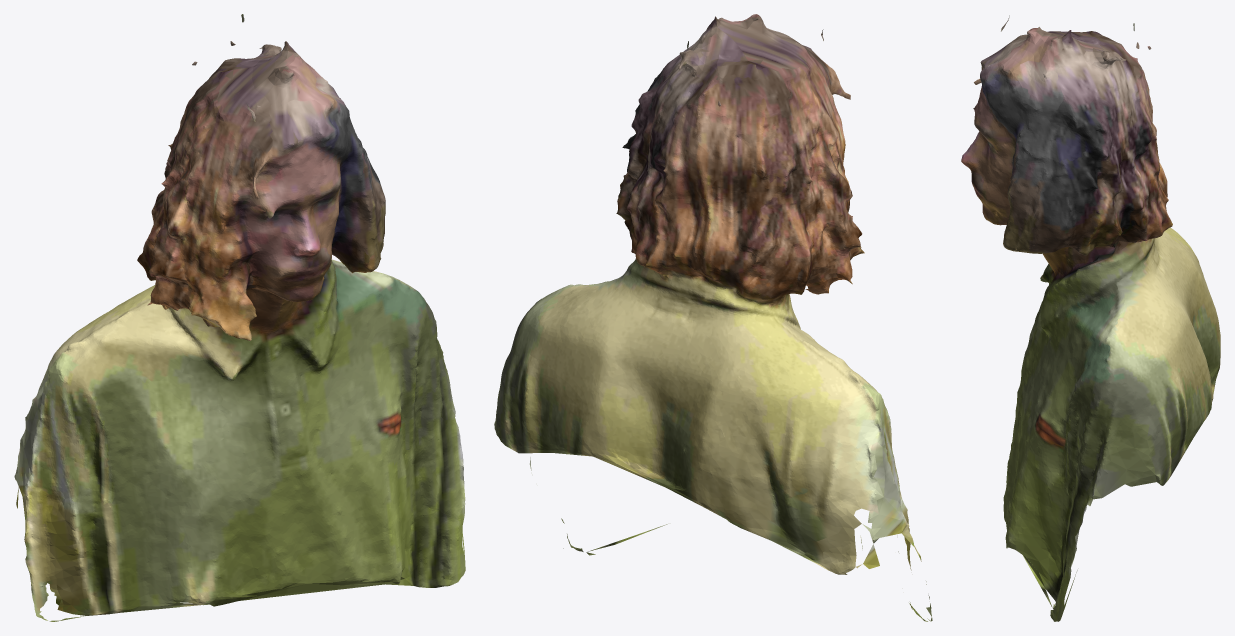
The picture shows the model from 3 angles, left to right: view 1: azimuth 30°, elevation 25°; view 2: azimuth 150°, elevation 25°; view 3: azimuth 270°, elevation 25°; orthographic projection. The views are drawn at different scales.
Parts seen in each view (by area): view 1: mesh; view 2: mesh; view 3: mesh.
Boxes of the visible parts, x1,y1,x2,y2 form: mesh: (14,14,465,621); mesh: (494,14,932,621); mesh: (961,15,1220,621).
Bounding box in the file's own units: 0.5137 × 0.6803 × 0.3059.
Materials: 1 (1 with a texture image).
